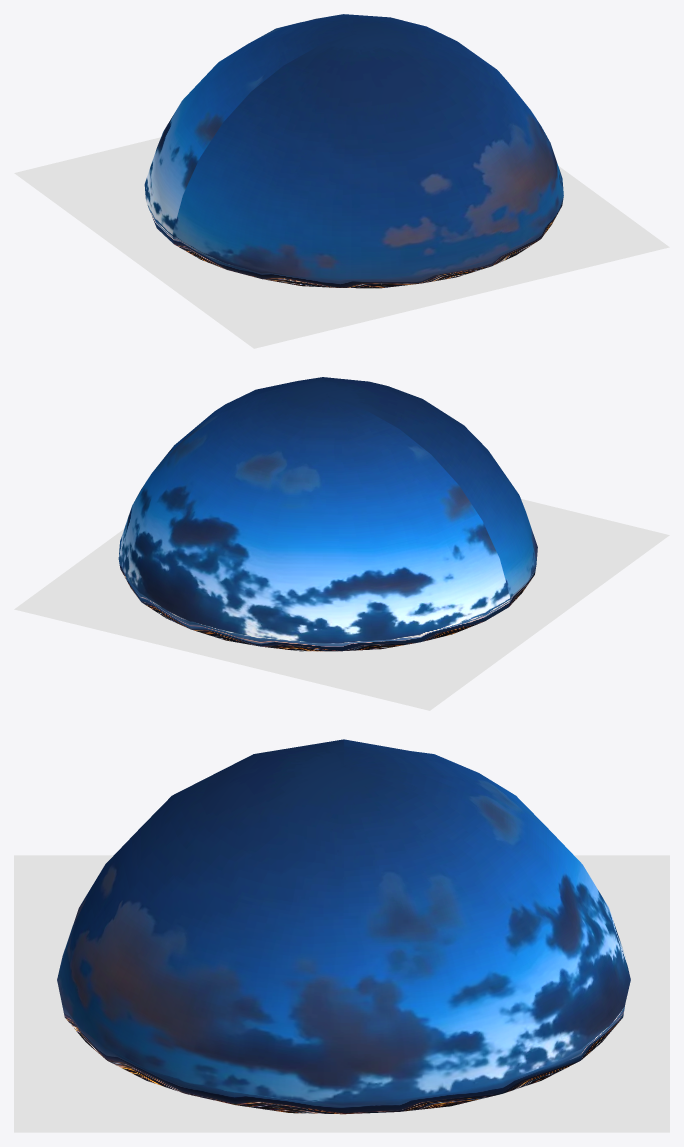
Rendered from city-skyline.glb.
3 views of the same model, one above another, from view 1: azimuth 30°, elevation 25°; view 2: azimuth 150°, elevation 25°; view 3: azimuth 270°, elevation 25° (orthographic). The views are drawn at different scales.
Parts seen in each view (by area): view 1: Sphere_Material010_0, Plane_Material011_0; view 2: Sphere_Material010_0, Plane_Material011_0; view 3: Sphere_Material010_0, Plane_Material011_0.
Boxes of the visible parts, left/top/right/bottom form: Sphere_Material010_0: left=144, top=14, right=563, bottom=288; Plane_Material011_0: left=14, top=137, right=669, bottom=348; Sphere_Material010_0: left=118, top=377, right=537, bottom=651; Plane_Material011_0: left=14, top=499, right=669, bottom=710; Sphere_Material010_0: left=57, top=739, right=630, bottom=1114; Plane_Material011_0: left=14, top=855, right=669, bottom=1132.
Bounding box in the file's own units: 18.61 × 7.66 × 18.61.
Materials: 11 (10 with a texture image).
